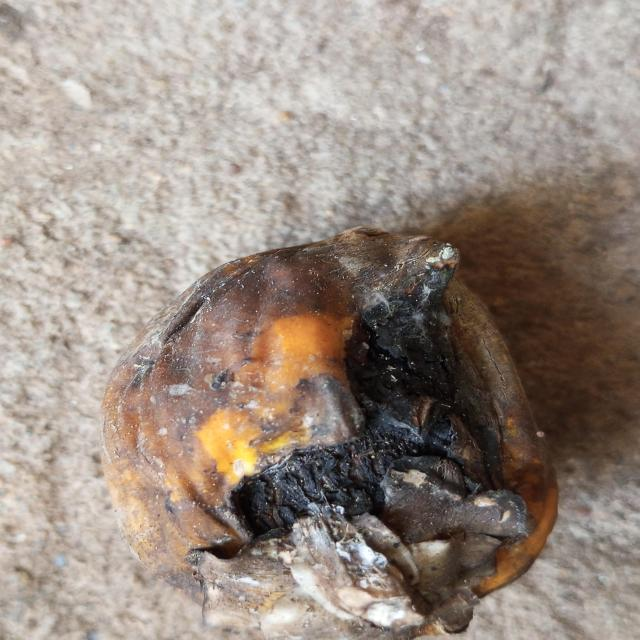damaged: (102, 228, 558, 640)
